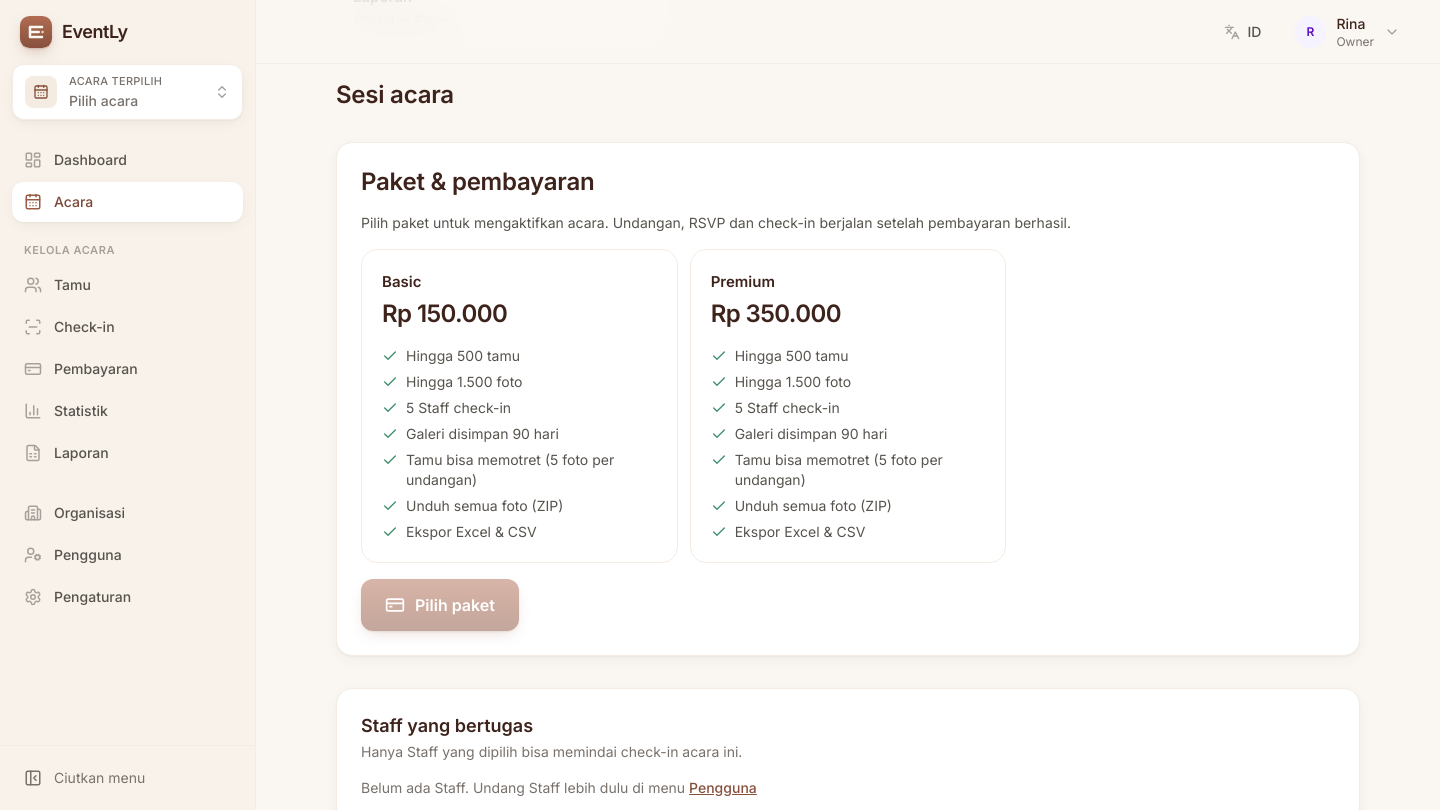
package and payment › lets the owner choose a package, check out and pay through the simulated checkout
The width and height of the screenshot is (1440, 810).
(page scrolled)
Click the radio button labelled "Premium" at (743, 281), box [690,249,1006,563]
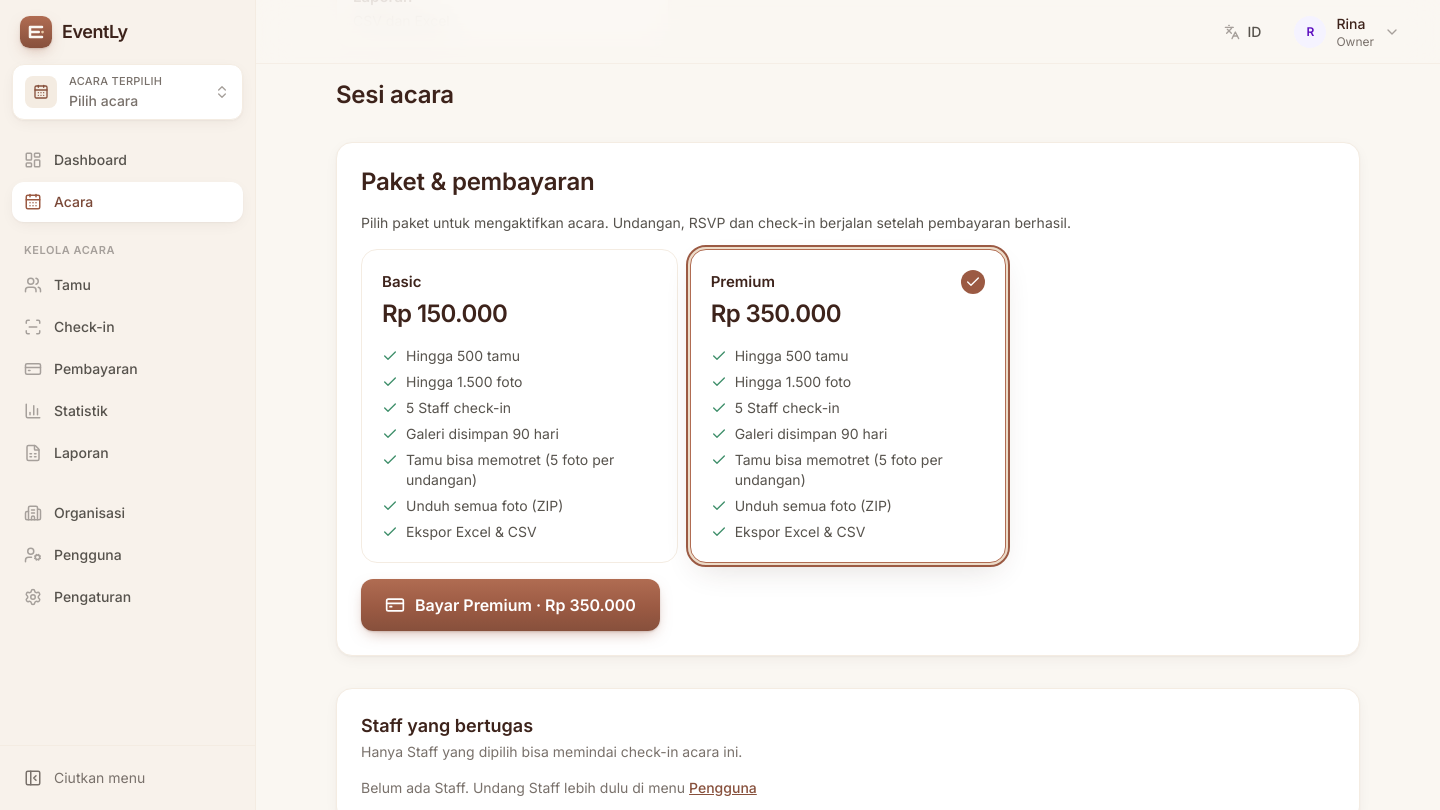
Click the button "Bayar Premium · Rp 350.000" at (510, 605), box [361,579,660,631]
(page scrolled)
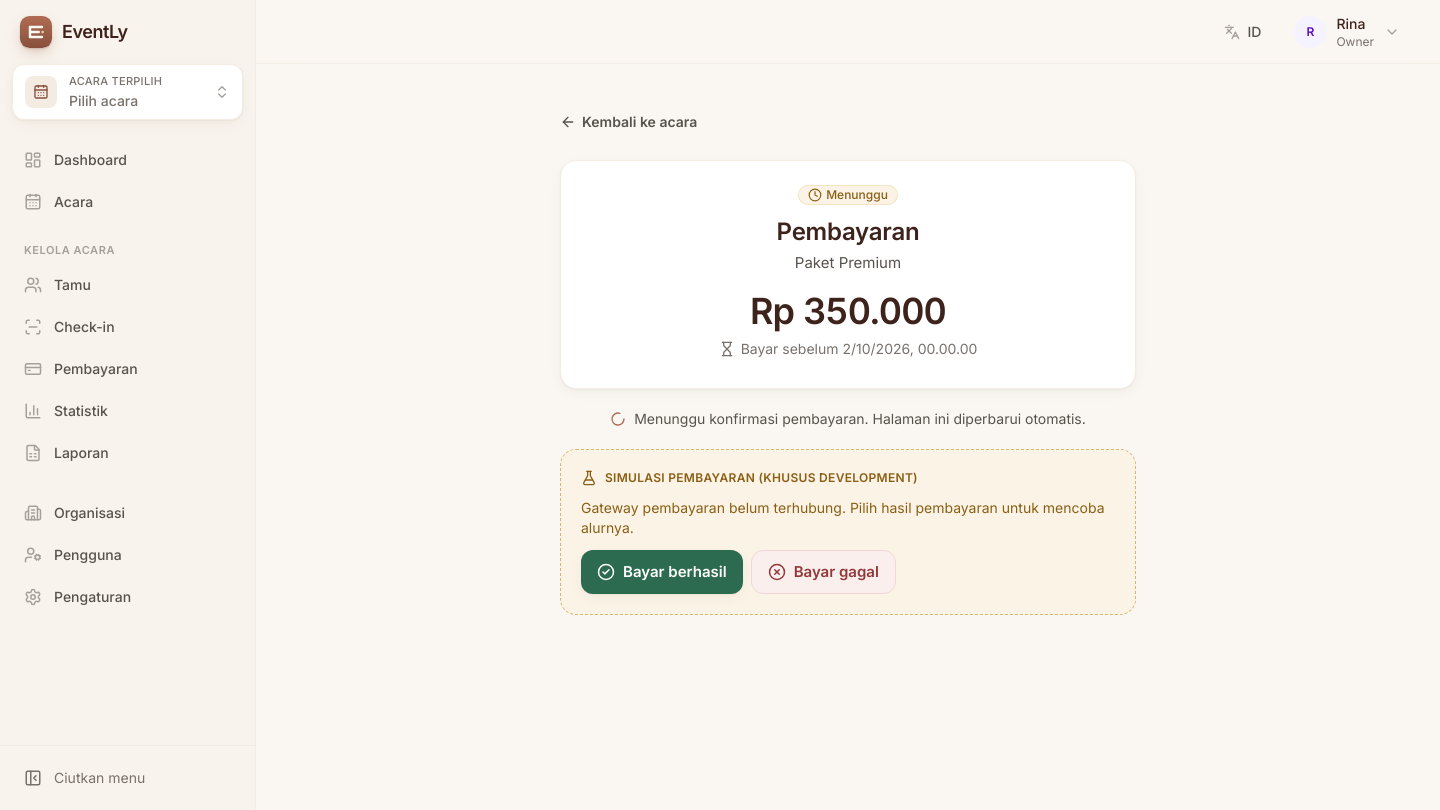
Result: the text "Simulasi pembayaran (khusus development)" is shown at [581,470,918,486]
Click the button "Bayar berhasil" at (662, 572), box [581,550,743,594]
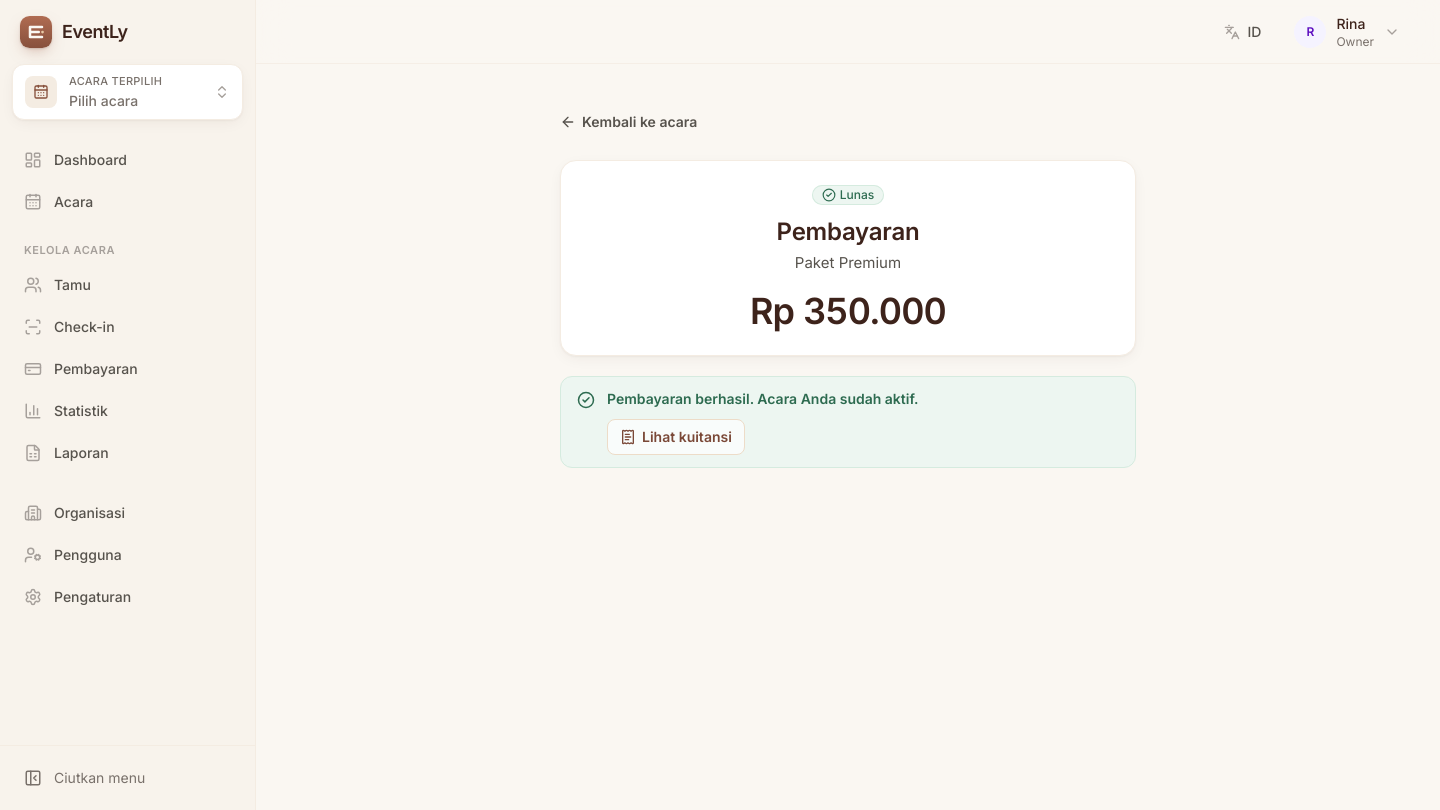
Result: the text "Pembayaran berhasil. Acara Anda sudah aktif." is shown at [607,390,919,407]
